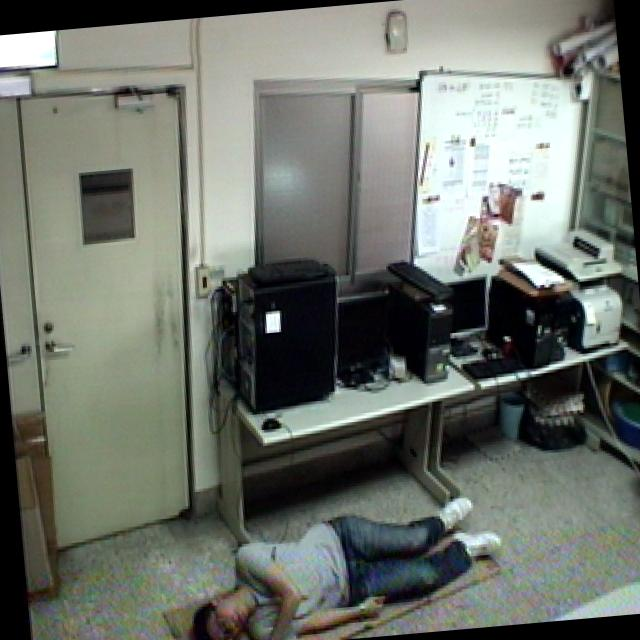lie: (178, 466, 515, 640)
